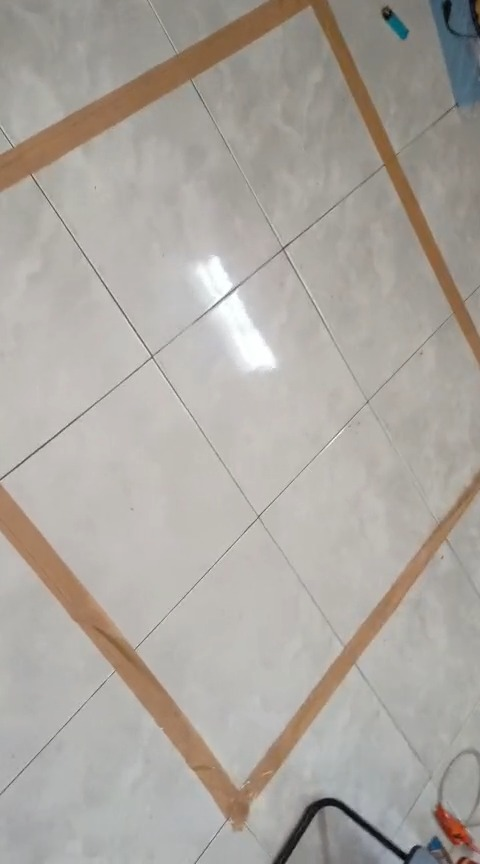floor marking: (0, 0, 479, 363), (0, 474, 479, 827)
